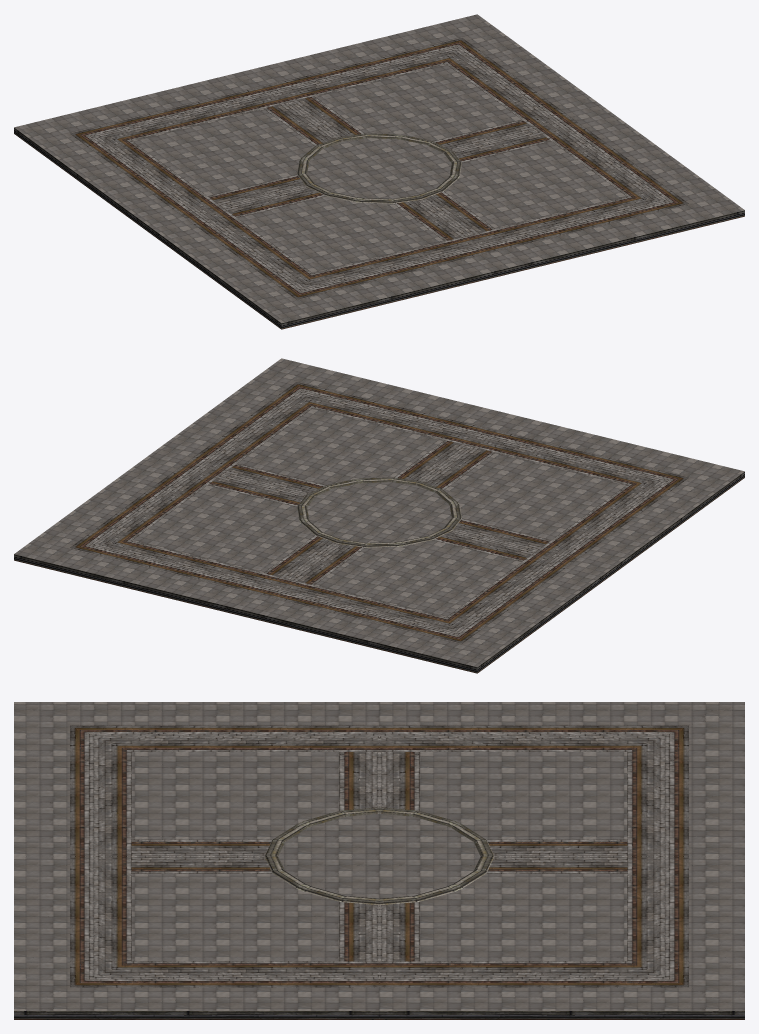
Rendered from auction_square04.FBX.
The picture shows the model from 3 angles, top to bottom: view 1: azimuth 30°, elevation 25°; view 2: azimuth 150°, elevation 25°; view 3: azimuth 270°, elevation 25°; orthographic projection. The views are drawn at different scales.
Parts seen in each view (by area): view 1: auction_square04; view 2: auction_square04; view 3: auction_square04.
Part boxes in pixels (<box>): auction_square04: <box>14,14,744,329</box>; auction_square04: <box>14,358,744,673</box>; auction_square04: <box>14,702,744,1019</box>.
Size of the model in its own units: 14348 by 220 by 14348.
4 materials, 4 textured.
